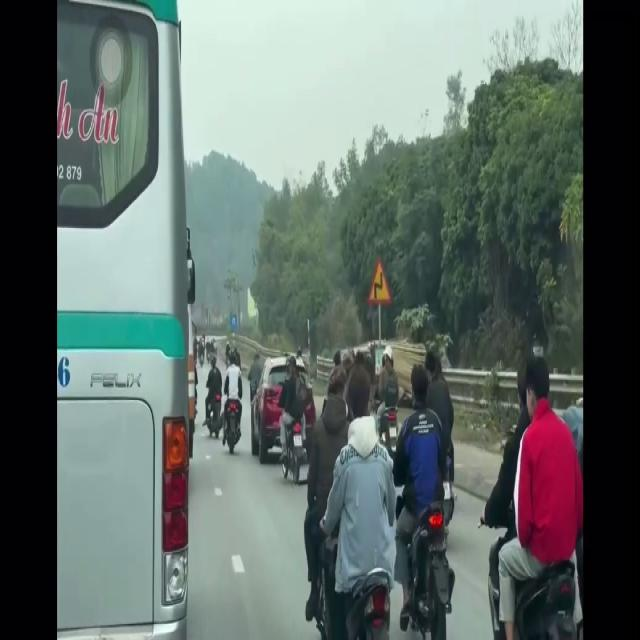no_helmet: (529, 352, 549, 434), (351, 365, 370, 430), (413, 367, 429, 438)
